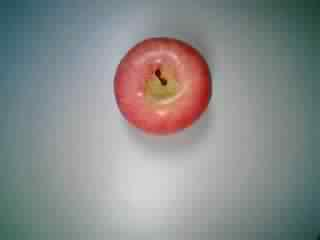apple: (109, 36, 214, 138)
